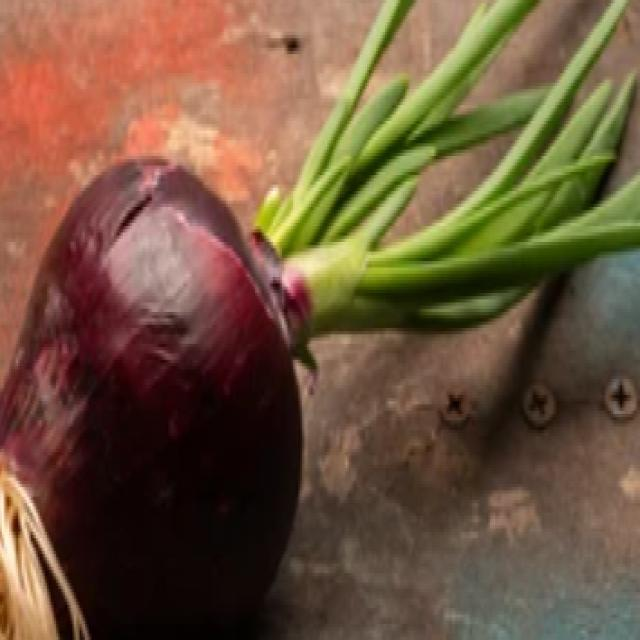sprouting: (276, 32, 522, 316)
